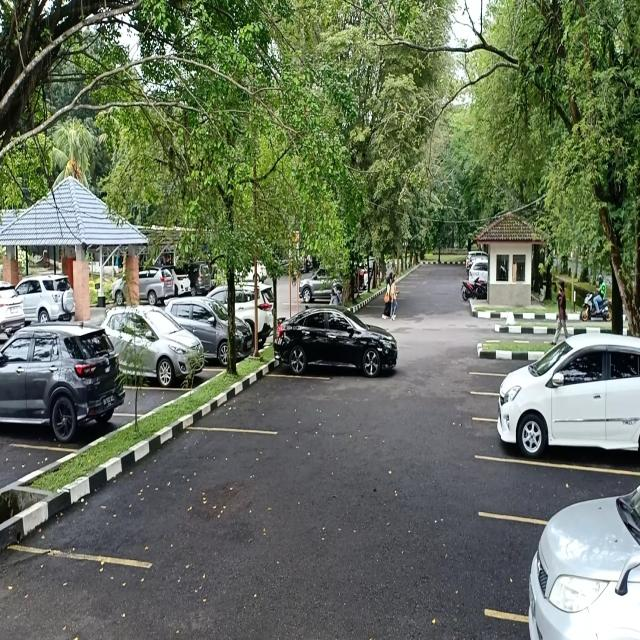empty: (125, 424, 222, 569), (480, 456, 592, 520), (222, 372, 300, 436), (118, 377, 164, 418)
occupied: (476, 362, 640, 469), (0, 342, 122, 451), (270, 314, 390, 380), (121, 314, 208, 394)
